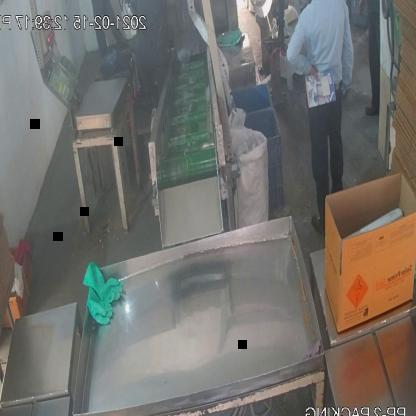glove: (82, 261, 125, 334)
no_glove: (285, 21, 316, 86)
